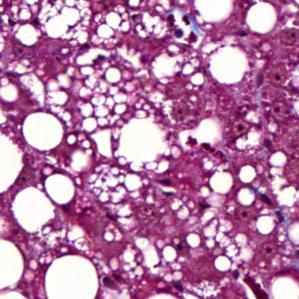steatosis: (22, 109, 65, 152), (44, 172, 77, 204)
